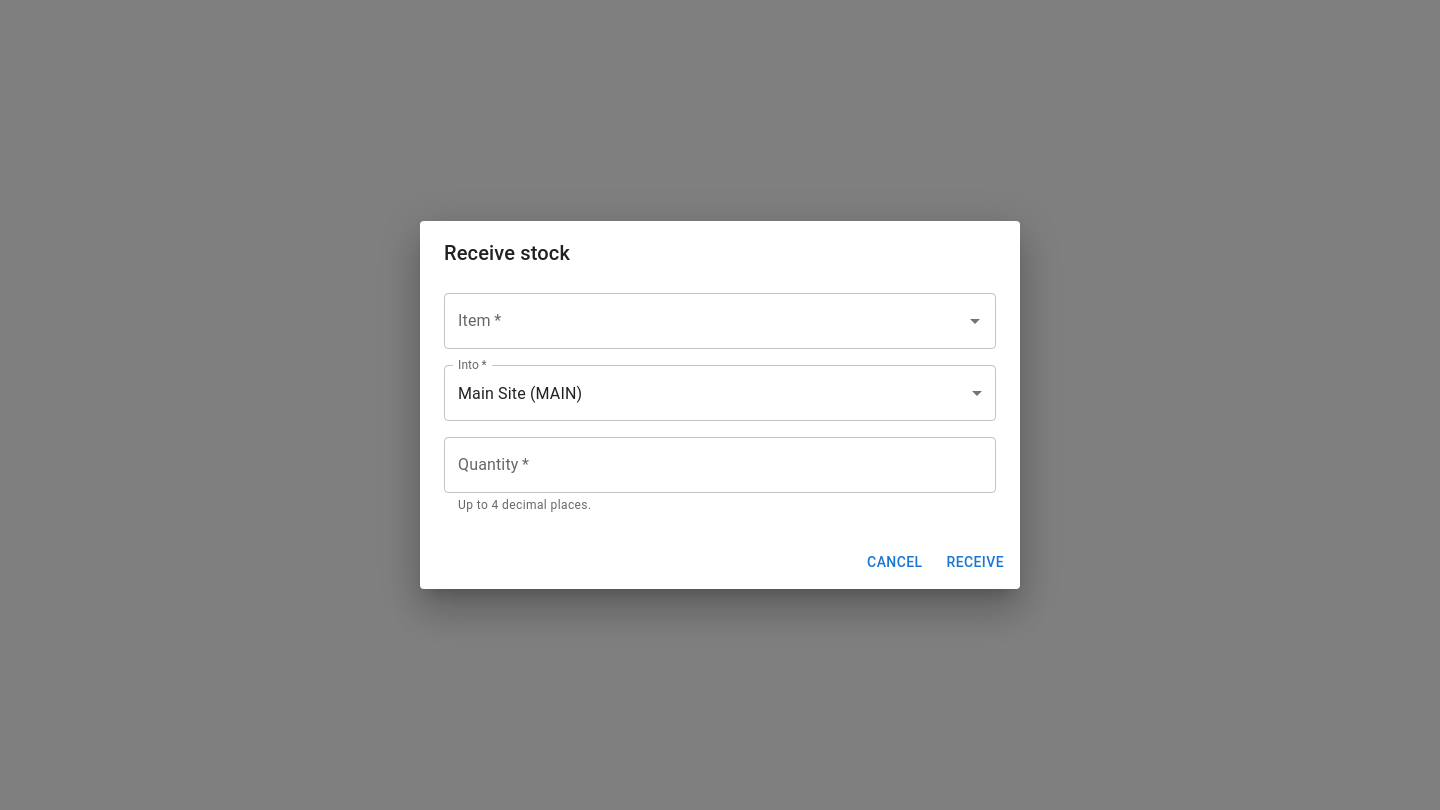
ReceiveStockDialog › refuses a thousands separator on the field, sending nothing
The width and height of the screenshot is (1440, 810).
Click the dropdown labelled "Item" at (705, 321), box [453,302,957,340]
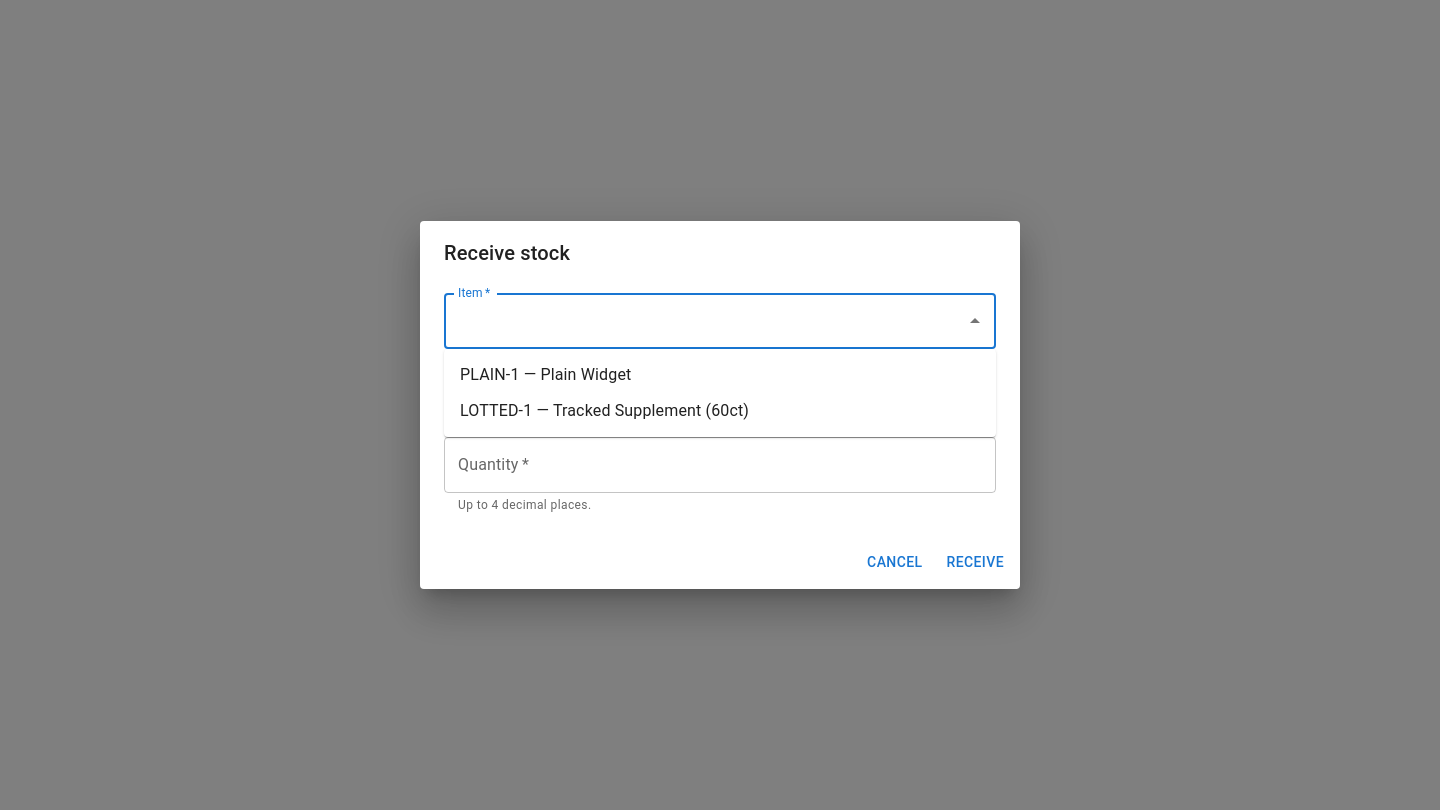
Click the option "PLAIN-1 — Plain Widget" at (546, 374), box [460,365,631,384]
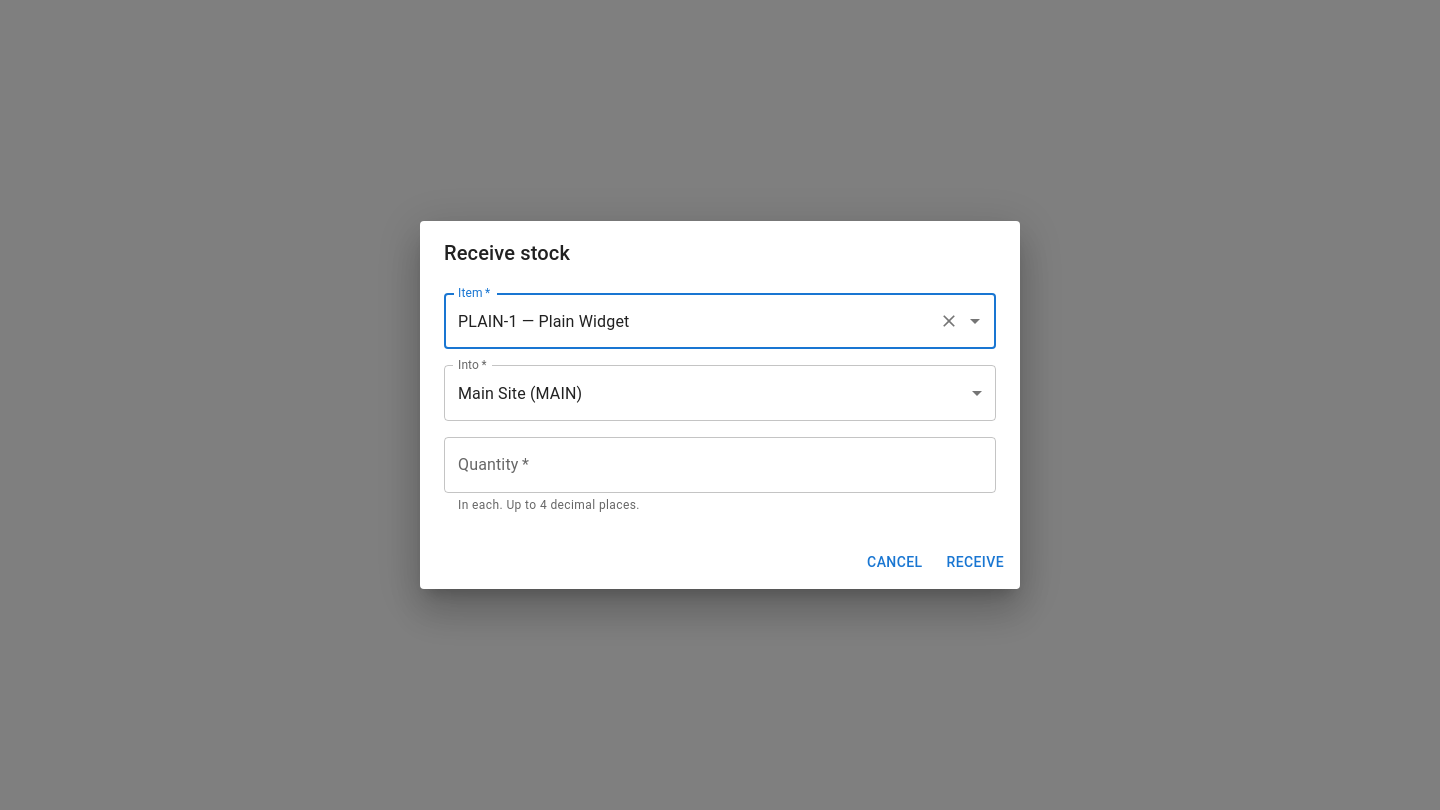
Type "1,234" into the field labelled "Quantity" at (720, 465), box [444,437,996,493]
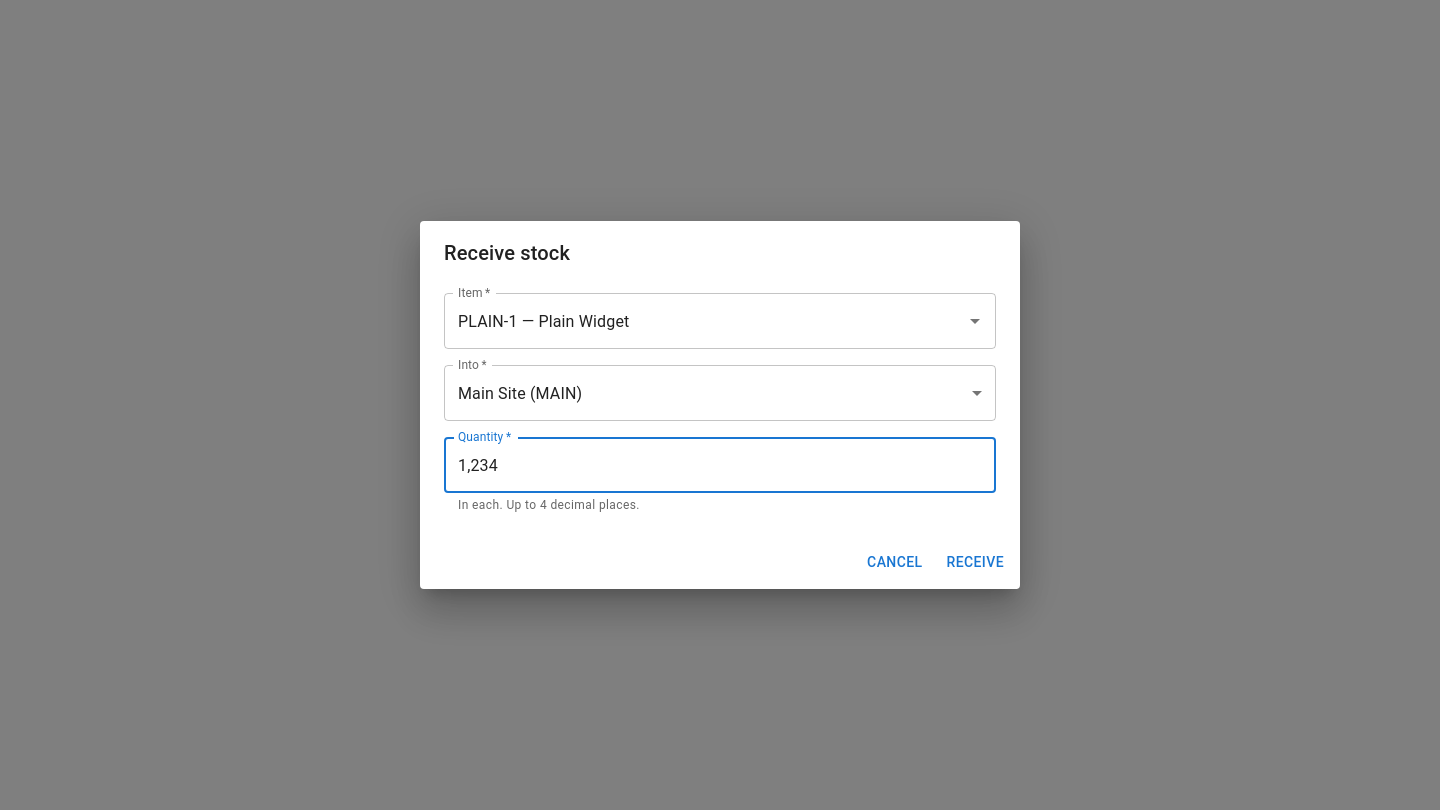
Click the button "Receive" at (975, 562), box [938,544,1012,581]
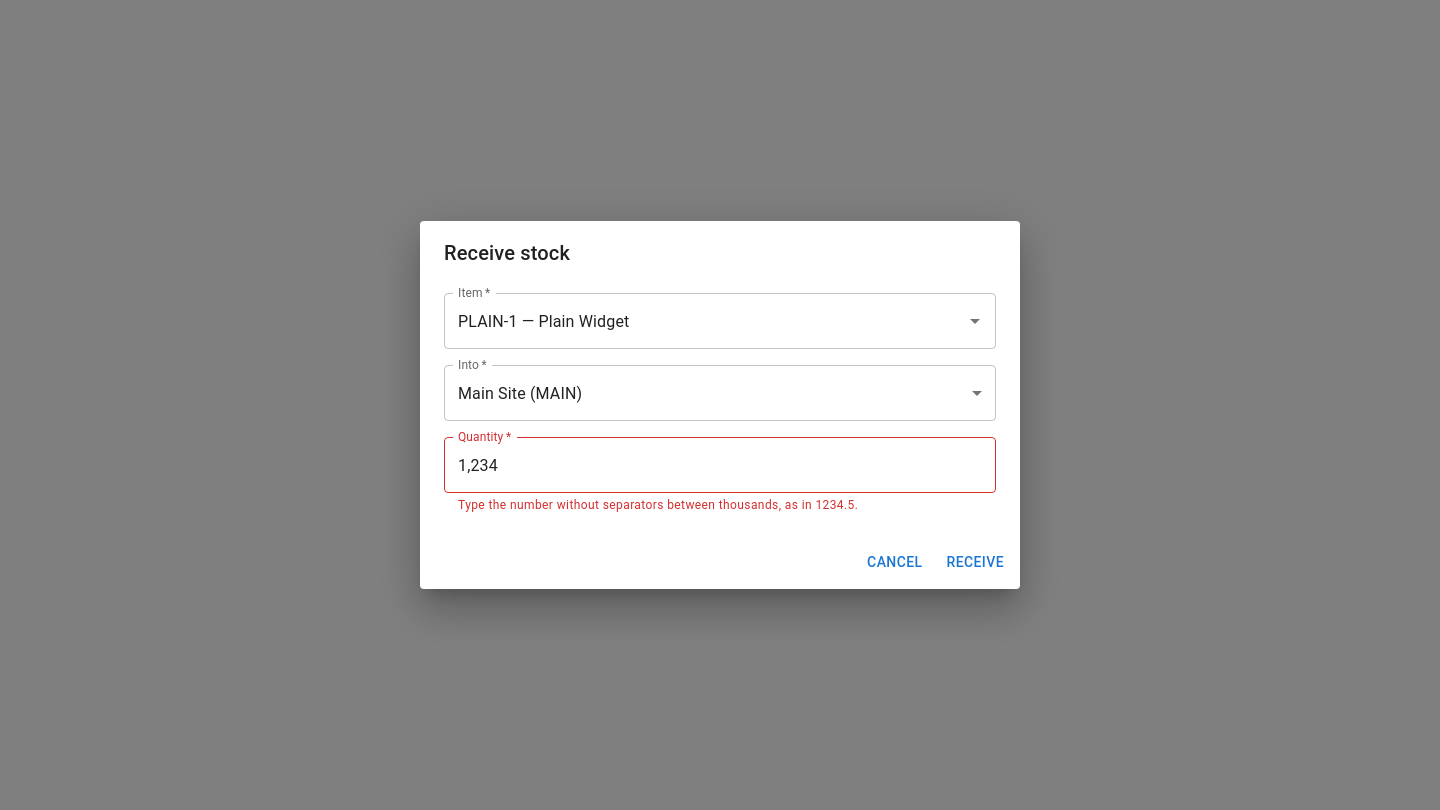
Expected: the text "without separators between thousands" is shown, [458,498,858,512]
